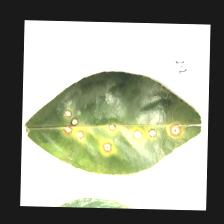canker: (57, 96, 184, 157)
